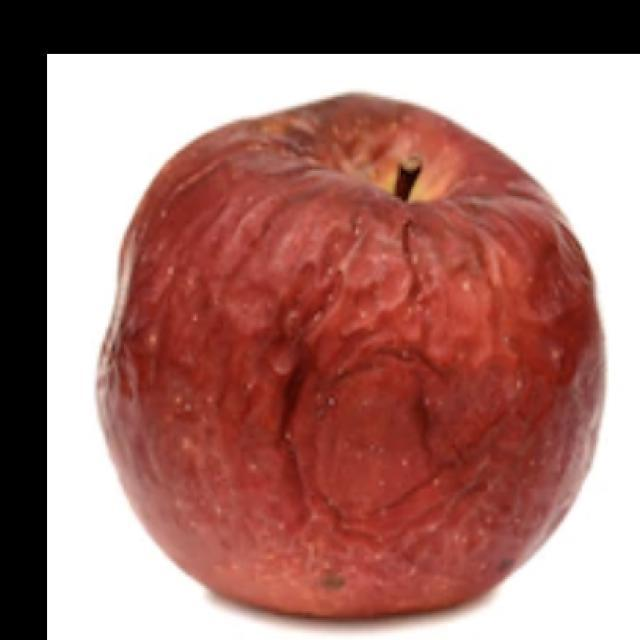Rotten: (91, 84, 608, 620)
